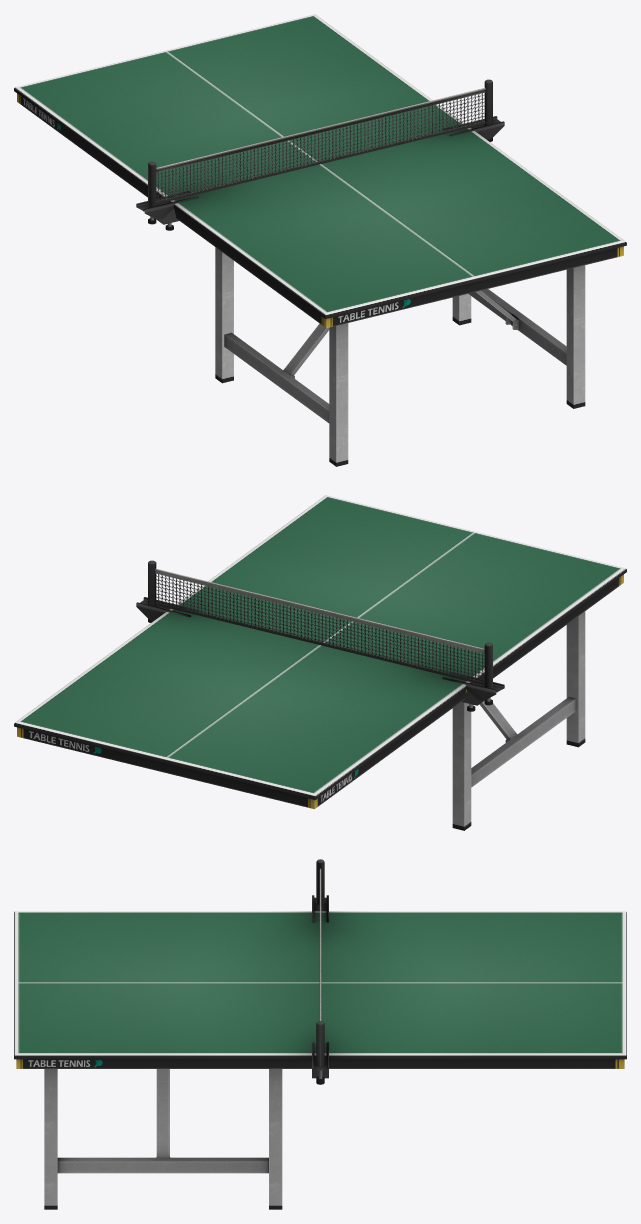
The model's file is Table_3.fbx.
3 renders of one model, top to bottom at view 1: azimuth 30°, elevation 25°; view 2: azimuth 150°, elevation 25°; view 3: azimuth 270°, elevation 25°, orthographic.
Parts seen in each view (by area): view 1: Top, Base; view 2: Top, Base; view 3: Top, Base.
Part boxes in pixels (x1,y1,x2,y2): Top: (14,14,626,328); Base: (215,247,585,466); Top: (14,495,626,809); Base: (452,611,585,830); Top: (14,859,626,1084); Base: (44,1069,282,1209).
Bounding box in the file's own units: 182 × 103 × 273.
